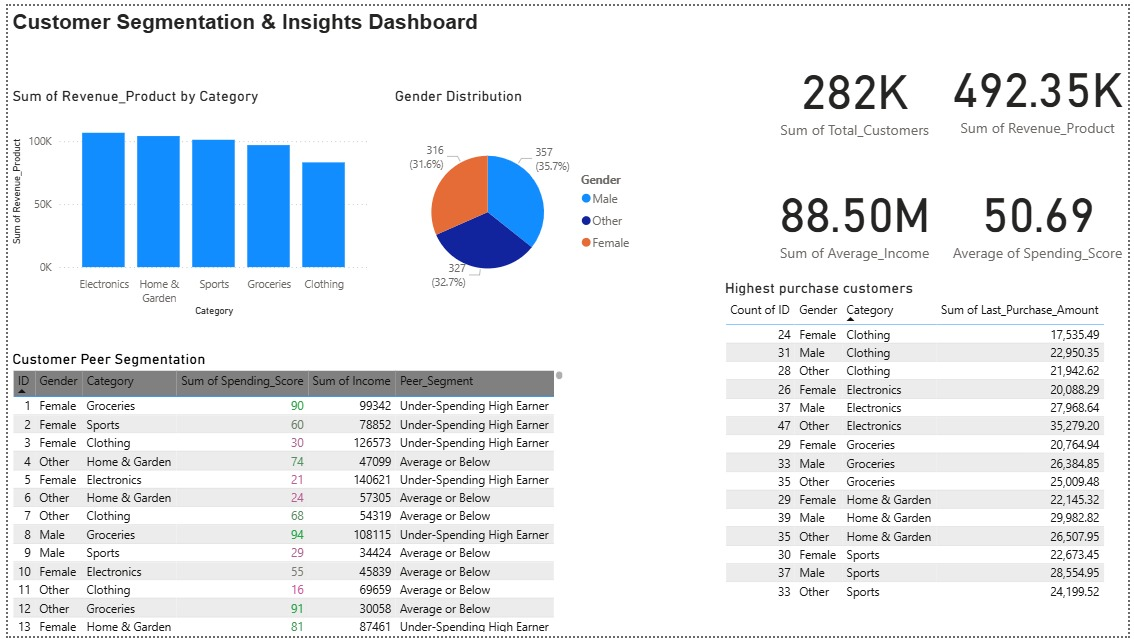

What the dashboard file says about the page in this screenshot:
{"tool":"powerbi","page":{"name":"Page 1","canvas":[1280,720],"ordinal":0},"visuals":[{"type":"tableEx","title":"Customer Peer Segmentation","fields":{"Values":["ready_customer_segmentation(Worksheet).ID","ready_customer_segmentation(Worksheet).Gender","ready_customer_segmentation(Worksheet).Category","Sum(ready_customer_segmentation(Worksheet).Spending_Score)","Sum(ready_customer_segmentation(Worksheet).Income)","ready_customer_segmentation(Worksheet).Peer_Segment"]},"box":[0,392.5,639.5,327.7],"z":0},{"type":"pieChart","title":"Gender Distribution","fields":{"Y":["Sum(ready_gender.Count_Gender)"],"Category":["ready_gender.Gender"]},"box":[437.8,92.9,288.6,266.6],"z":1000},{"type":"clusteredColumnChart","fields":{"Category":["ready_category_revenue.Category"],"Y":["Sum(ready_category_revenue.Revenue_Product)"]},"box":[0,92.9,417,266.6],"z":2000},{"type":"tableEx","title":"Highest purchase customers","fields":{"Values":["CountNonNull(ready_high_last_amount.ID)","ready_high_last_amount.Gender","ready_high_last_amount.Category","Sum(ready_high_last_amount.Last_Purchase_Amount)"]},"box":[814.4,311.8,465.9,397.4],"z":3000},{"type":"textbox","box":[0,0,582.1,51.4],"z":4000},{"type":"card","fields":{"Values":["Sum(ready_category_revenue.Revenue_Product)"]},"box":[1072.4,25.7,207.9,150.4],"z":5000},{"type":"card","fields":{"Values":["Avg(ready_customers.Spending_Score)"]},"box":[1072.4,173.6,207.9,138.2],"z":6000},{"type":"card","fields":{"Values":["Sum(ready_customers.Total_Customers)"]},"box":[865.8,28.1,204.2,148],"z":7000},{"type":"card","fields":{"Values":["Sum(ready_avg_spending.Average_Income)"]},"box":[865.8,173.6,204.2,138.2],"z":7001}]}

Visuals, with their boxes in screenshot pixels (x1, y1, x2, y2), scaled from the page's 1280x720 canvas onto the 1134x639 screenshot:
"Customer Peer Segmentation" tableEx: (0, 348, 567, 638)
"Gender Distribution" pieChart: (388, 82, 644, 319)
clusteredColumnChart - ready_category_revenue.Category x Sum(ready_category_revenue.Revenue_Product): (0, 82, 369, 319)
"Highest purchase customers" tableEx: (722, 277, 1133, 629)
textbox: (0, 0, 516, 46)
card - Sum(ready_category_revenue.Revenue_Product): (950, 23, 1133, 156)
card - Avg(ready_customers.Spending_Score): (950, 154, 1133, 277)
card - Sum(ready_customers.Total_Customers): (767, 25, 948, 156)
card - Sum(ready_avg_spending.Average_Income): (767, 154, 948, 277)
